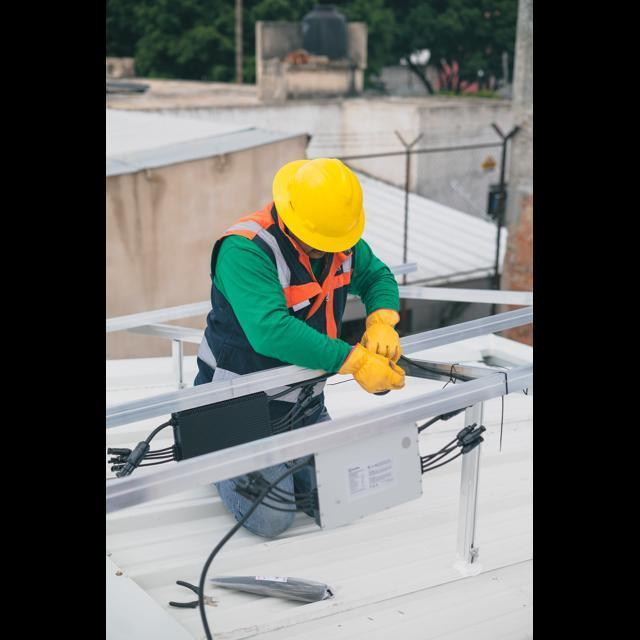Capacete: (273, 158, 364, 252)
Colete: (198, 203, 352, 380)
